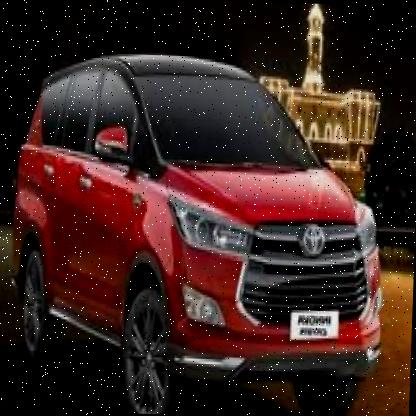car: (7, 37, 402, 416)
